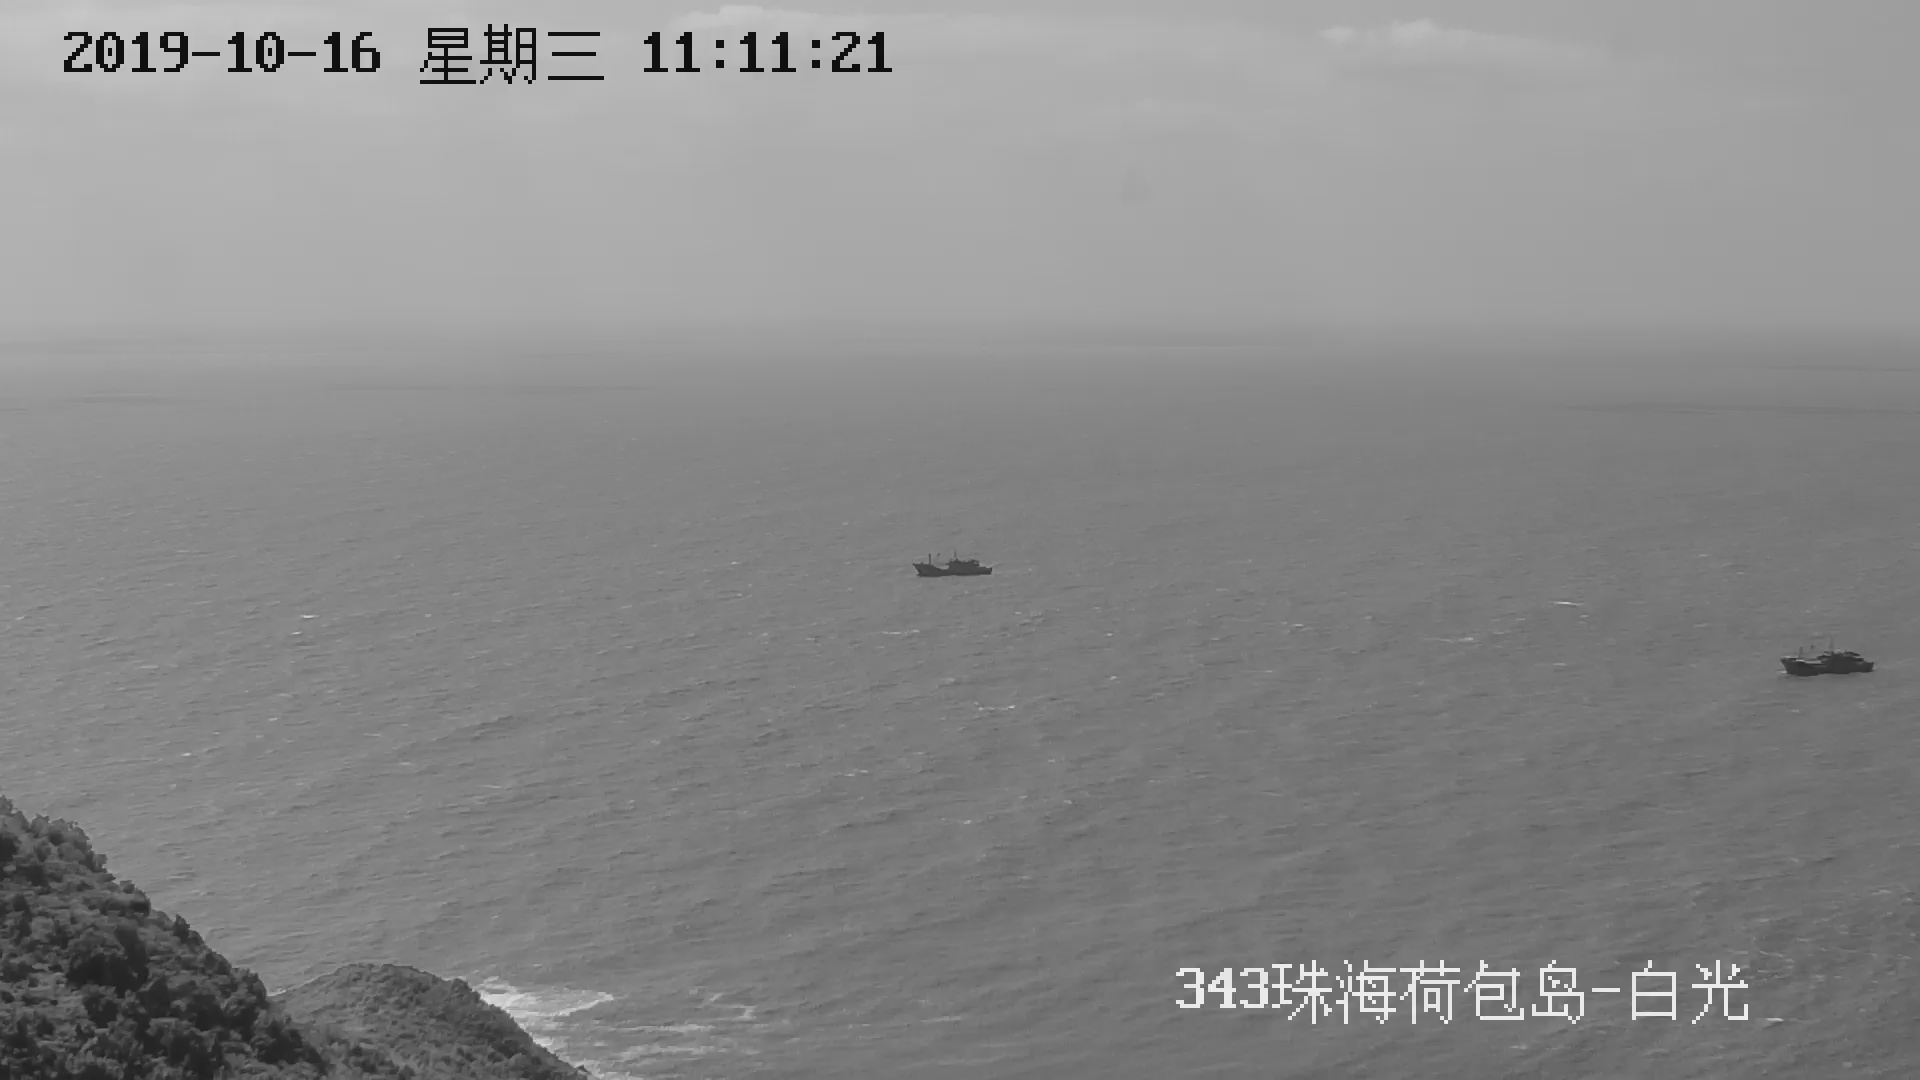ship: (1780, 650, 1873, 676), (911, 556, 992, 578)
